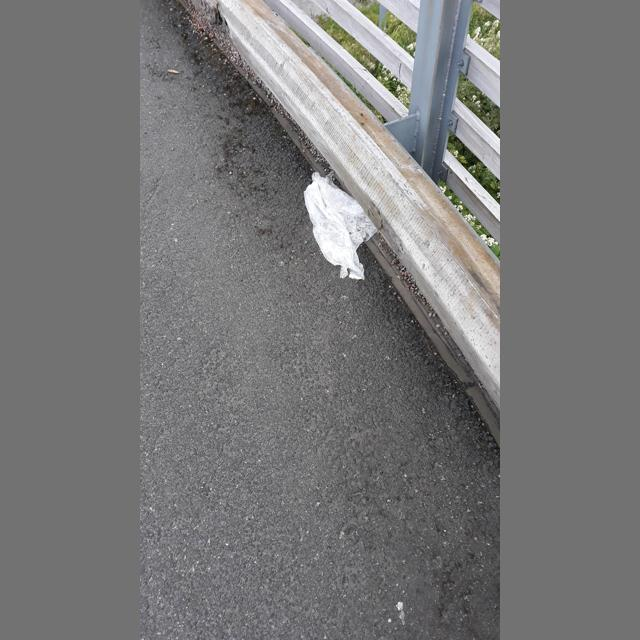litter: (304, 171, 378, 280)
